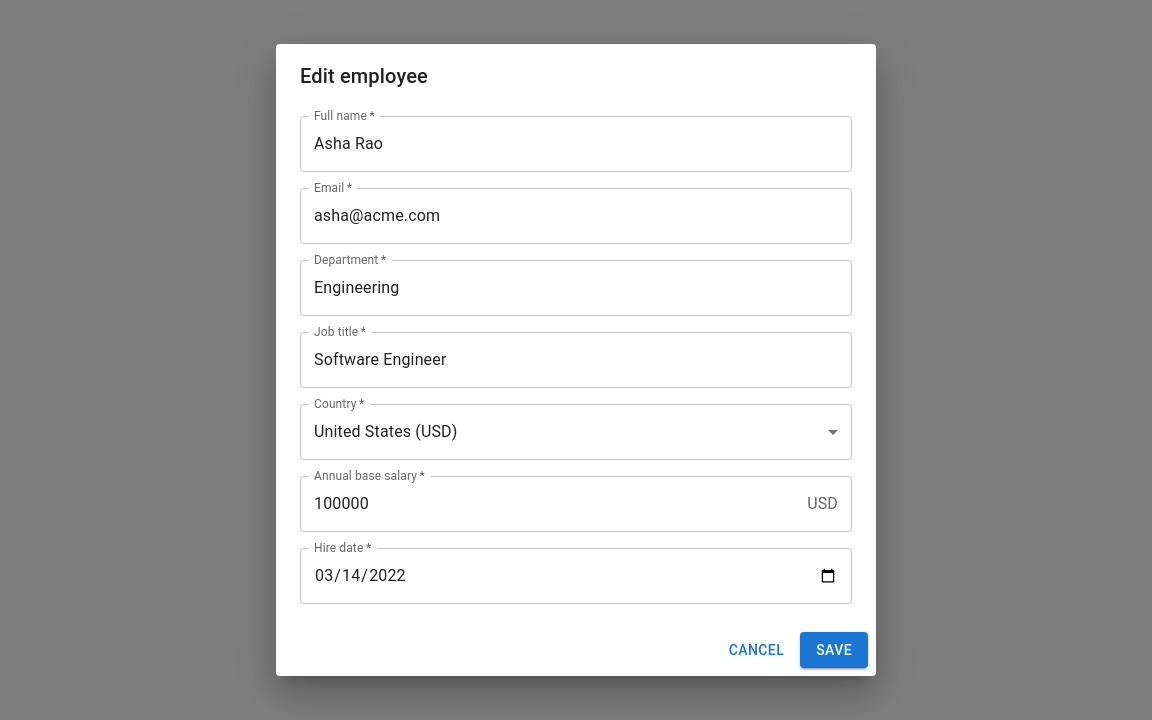
Test: EmployeeFormDialog › shows any other server error at the top
The width and height of the screenshot is (1152, 720).
Click the button "Save". click: (834, 650)
box: [800,632,868,668]
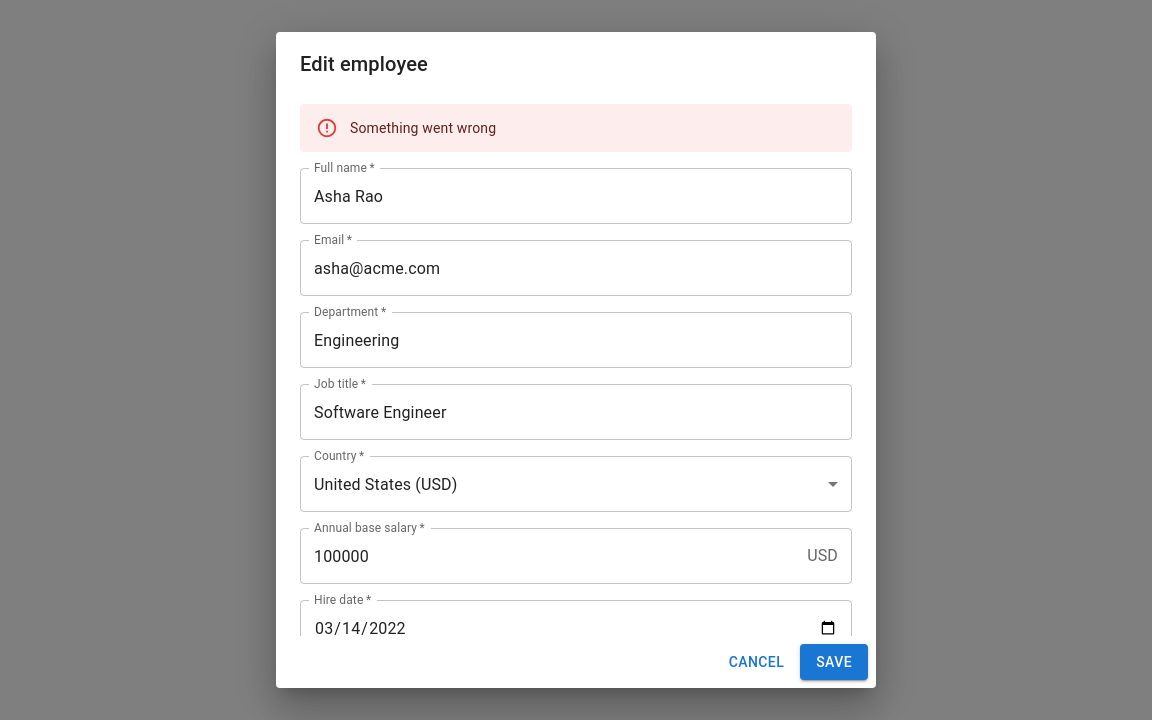
Check: the message reads "Something went wrong", box [350,120,496,136]
